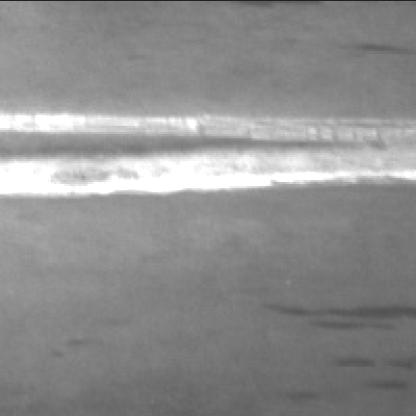inclusion: (270, 297, 416, 333), (337, 351, 416, 387), (362, 36, 416, 58)
scratches: (4, 102, 416, 196)
